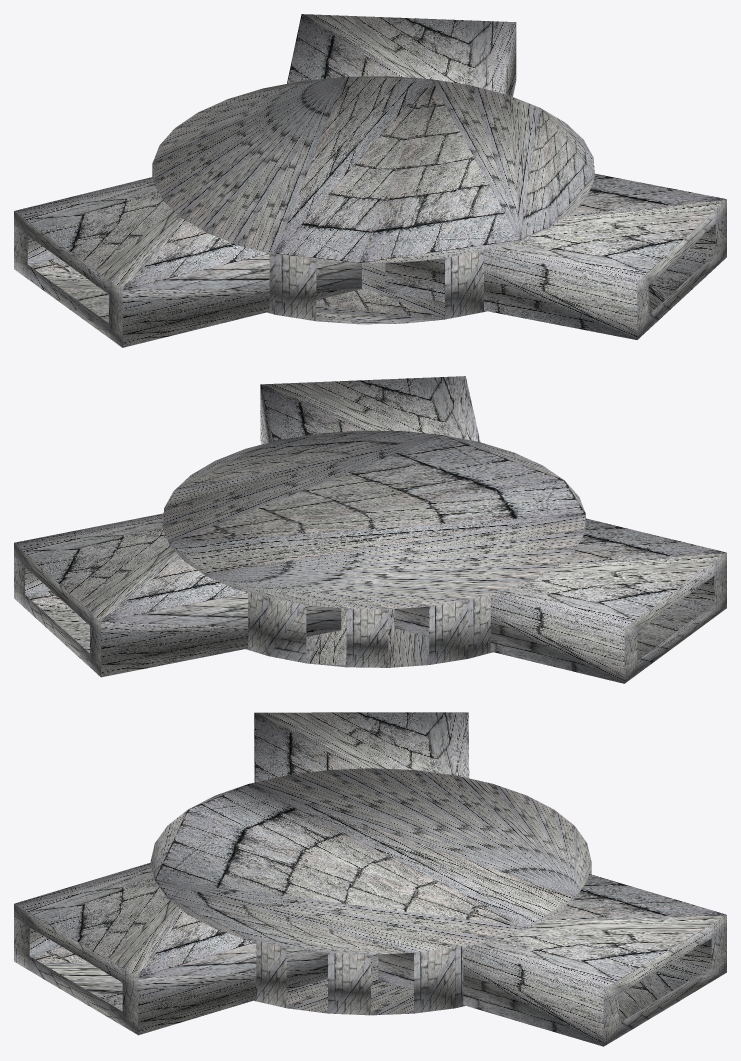
Rendered from level2.2.2.obj.
3 views of the same model, one above another, from view 1: azimuth 30°, elevation 25°; view 2: azimuth 150°, elevation 25°; view 3: azimuth 270°, elevation 25° (orthographic). The views are drawn at different scales.
Parts seen in each view (by area): view 1: Cylinder.003, Cube.000_Cube.005_Cube.000_Cube.007, Cube.000_Cube.004_Cube.000_Cube.000, Cube.000_Cube.004_Cube.000_Cube.005; view 2: Cylinder.003, Cube.000_Cube.004_Cube.000_Cube.005, Cube.000_Cube.005_Cube.000_Cube.007, Cube.000_Cube.004_Cube.000_Cube.000; view 3: Cylinder.003, Cube.000_Cube.004_Cube.000_Cube.005, Cube.000_Cube.004_Cube.000_Cube.000, Cube.000_Cube.005_Cube.000_Cube.007.
Boxes of the visible parts, left/top/right/bottom form: Cylinder.003: left=152, top=76, right=594, bottom=324; Cube.000_Cube.005_Cube.000_Cube.007: left=14, top=177, right=361, bottom=347; Cube.000_Cube.004_Cube.000_Cube.000: left=385, top=173, right=726, bottom=339; Cube.000_Cube.004_Cube.000_Cube.005: left=287, top=14, right=516, bottom=96; Cylinder.003: left=162, top=430, right=585, bottom=667; Cube.000_Cube.004_Cube.000_Cube.005: left=14, top=513, right=341, bottom=677; Cube.000_Cube.005_Cube.000_Cube.007: left=394, top=518, right=726, bottom=683; Cube.000_Cube.004_Cube.000_Cube.000: left=260, top=376, right=480, bottom=444; Cylinder.003: left=150, top=768, right=591, bottom=1015; Cube.000_Cube.004_Cube.000_Cube.005: left=378, top=874, right=726, bottom=1046; Cube.000_Cube.004_Cube.000_Cube.000: left=14, top=862, right=327, bottom=1035; Cube.000_Cube.005_Cube.000_Cube.007: left=254, top=712, right=469, bottom=782.
Bounding box in the file's own units: 2.96 × 0.3035 × 3.22.
